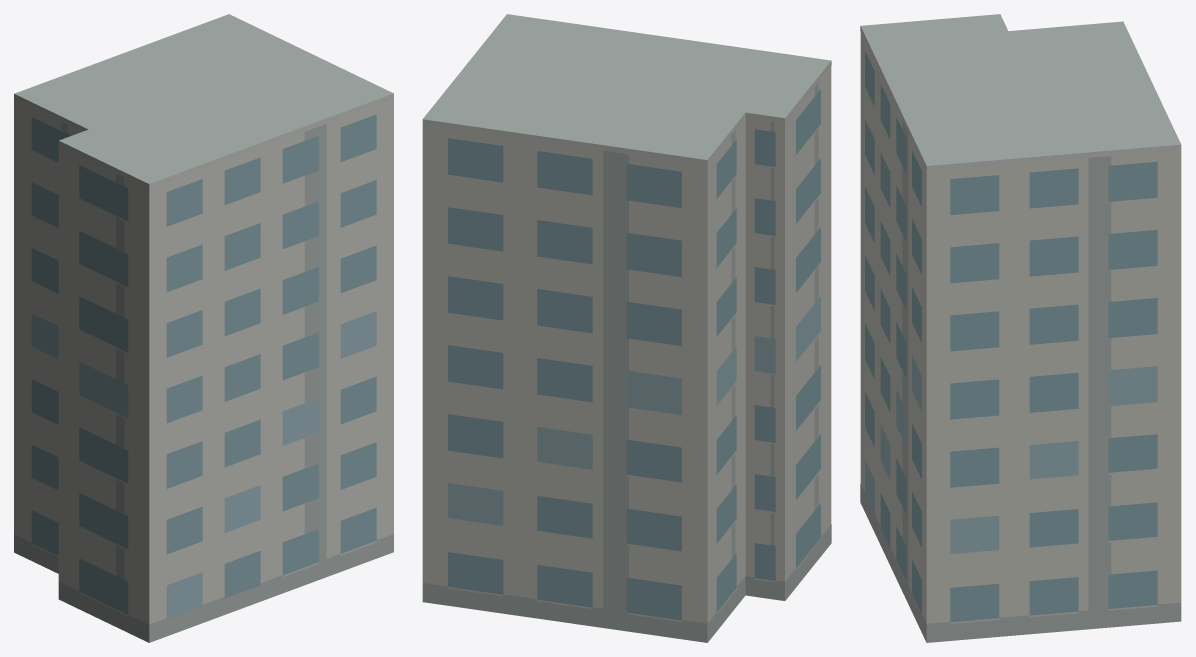
The model's file is residential-11ae5c3e-f2c8-444b-8ff3-f6147d110a5c.glb.
3 renders of one model, left to right at view 1: azimuth 30°, elevation 25°; view 2: azimuth 150°, elevation 25°; view 3: azimuth 270°, elevation 25°, orthographic. The views are drawn at different scales.
Parts seen in each view (by area): view 1: residential-11ae5c3e-f2c8-444b-8ff3-f6147d110a5c.tmp; view 2: residential-11ae5c3e-f2c8-444b-8ff3-f6147d110a5c.tmp; view 3: residential-11ae5c3e-f2c8-444b-8ff3-f6147d110a5c.tmp.
Boxes of the visible parts, bbox=[...] form: residential-11ae5c3e-f2c8-444b-8ff3-f6147d110a5c.tmp: bbox=[14, 14, 393, 642]; residential-11ae5c3e-f2c8-444b-8ff3-f6147d110a5c.tmp: bbox=[422, 14, 831, 642]; residential-11ae5c3e-f2c8-444b-8ff3-f6147d110a5c.tmp: bbox=[860, 14, 1181, 642].
Bounding box in the file's own units: 14.37 × 21 × 12.81.
